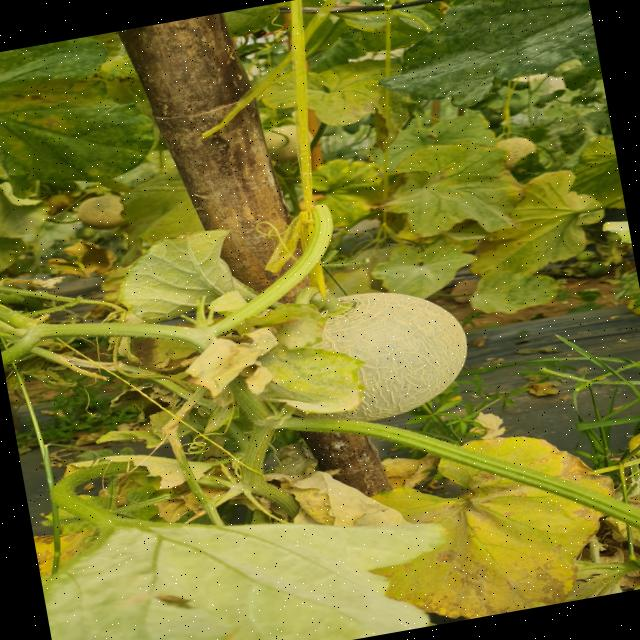melon: (312, 292, 467, 421)
